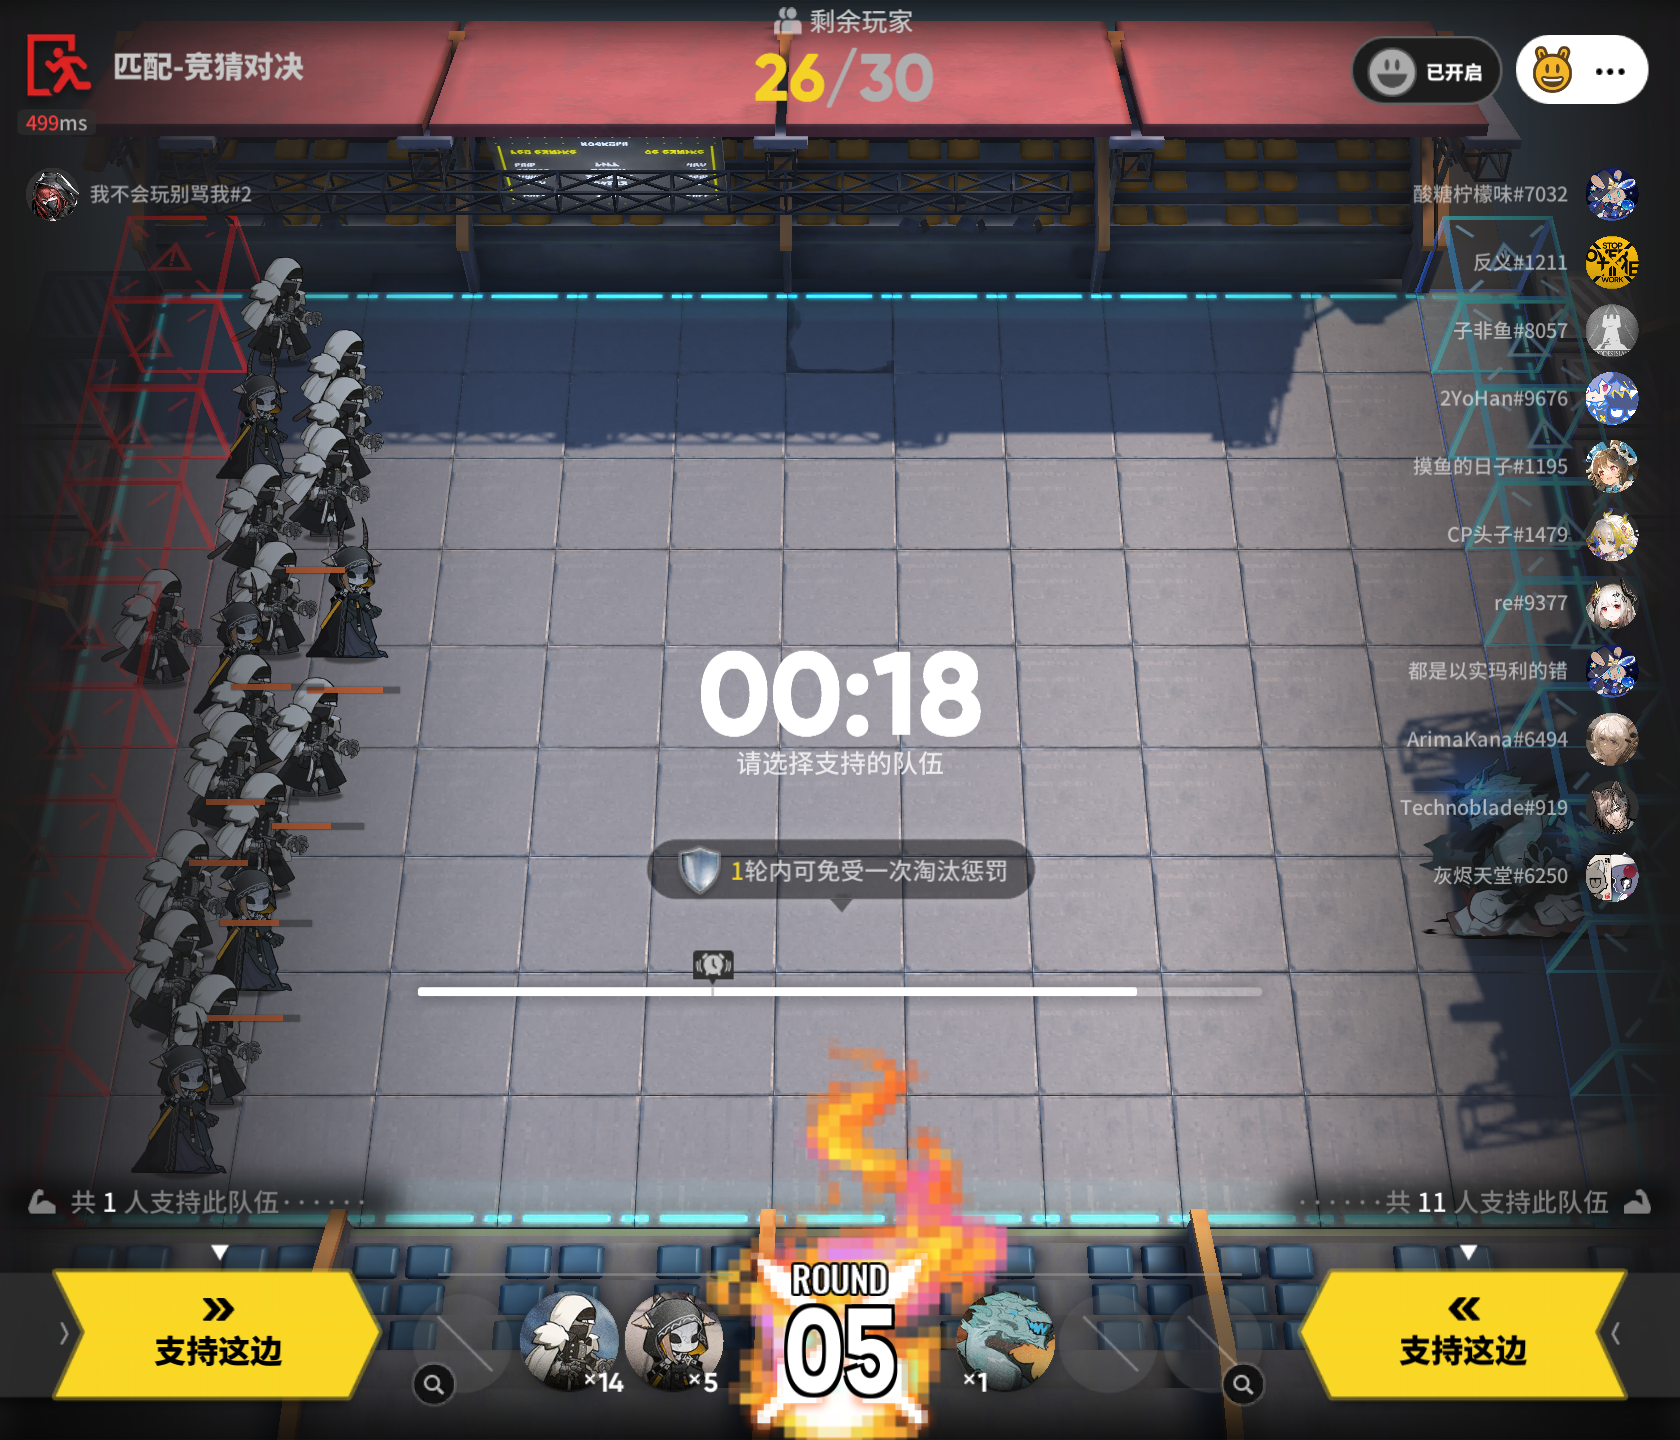“自在”: (1423, 761, 1634, 949), (951, 1289, 1064, 1389)
冰手术师: (104, 564, 209, 693), (174, 973, 264, 1119), (134, 817, 234, 946), (213, 770, 316, 891), (207, 451, 309, 570), (223, 536, 320, 659), (269, 670, 354, 806), (516, 1287, 621, 1394), (123, 901, 207, 1031), (234, 256, 324, 366), (299, 429, 376, 536), (186, 714, 256, 829), (306, 319, 386, 414), (199, 643, 283, 724), (301, 373, 383, 450)
扩音术师: (209, 866, 313, 1000), (139, 1047, 246, 1174), (319, 524, 401, 663), (621, 1291, 731, 1393), (204, 574, 281, 704), (223, 357, 301, 484)
